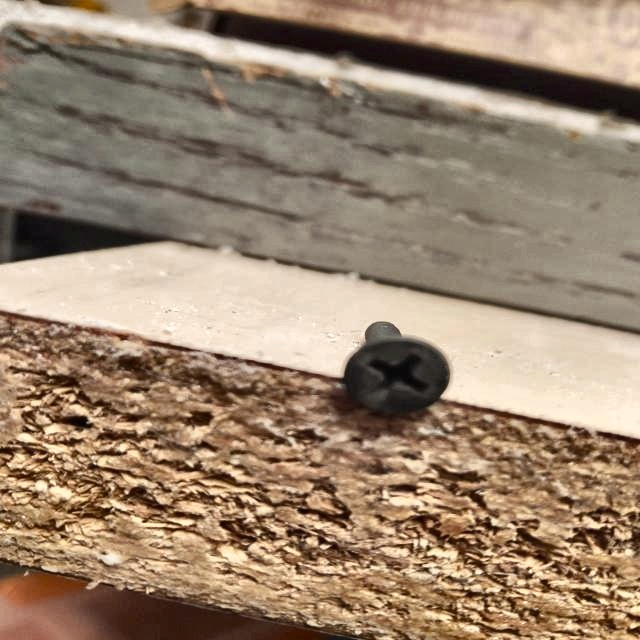phillips: (341, 338, 451, 418)
